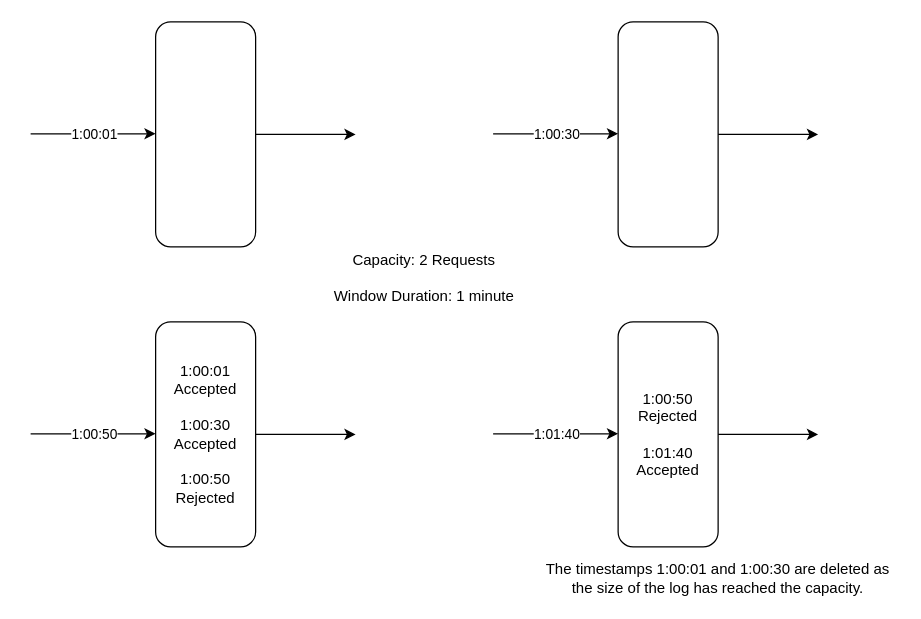
Image size: 921x619. Some labels were removed from this diagram. Each missing label, with the box of its shape:
1:00:01 Accepted: (154, 21, 256, 247)
1:00:01 Accepted 1:00:30 Accepted: (617, 21, 718, 247)
